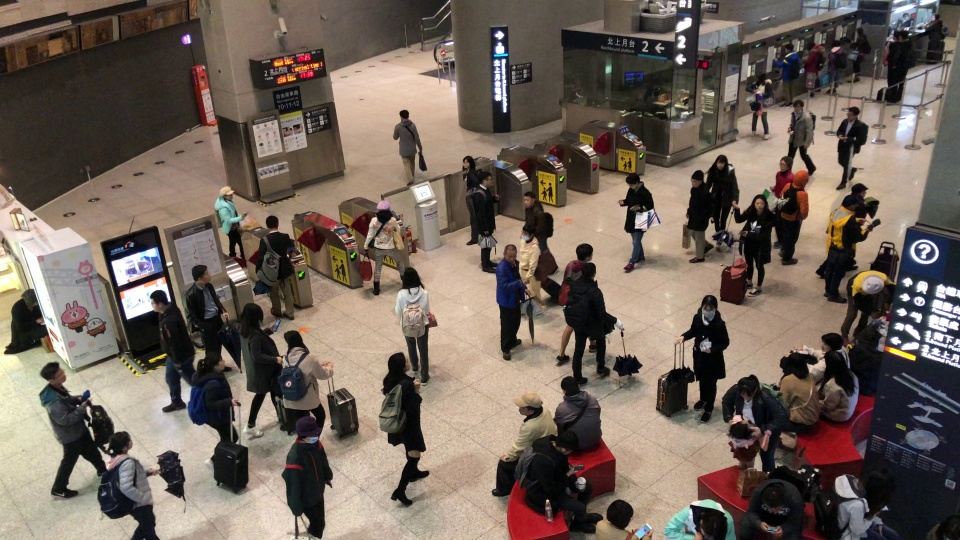person_head: (866, 467, 895, 504), (606, 498, 634, 529), (699, 511, 726, 538), (513, 391, 542, 416), (761, 483, 786, 512), (295, 415, 320, 442), (40, 361, 66, 386), (107, 430, 133, 455), (555, 430, 580, 455), (196, 351, 225, 372), (386, 351, 410, 375), (240, 302, 263, 327), (824, 352, 847, 377), (787, 353, 809, 378), (860, 273, 884, 295), (148, 288, 168, 313), (738, 376, 758, 401), (939, 517, 959, 540), (820, 332, 844, 351), (191, 263, 212, 284), (283, 329, 304, 349), (559, 375, 580, 395), (402, 267, 421, 289), (730, 420, 753, 438), (701, 294, 718, 316), (575, 242, 594, 261), (842, 193, 859, 212), (580, 261, 597, 279), (689, 168, 704, 188), (502, 243, 518, 261), (793, 169, 809, 187), (22, 288, 37, 306), (520, 224, 535, 242), (851, 182, 869, 197), (264, 214, 280, 230), (478, 170, 494, 186), (625, 172, 641, 188), (778, 155, 794, 170), (714, 154, 728, 171), (219, 185, 234, 200), (753, 194, 767, 210), (846, 105, 861, 119), (523, 191, 536, 207), (376, 199, 391, 212), (463, 155, 475, 171), (755, 71, 767, 85), (792, 99, 804, 111), (399, 108, 409, 121), (898, 30, 909, 41), (806, 39, 816, 51), (784, 42, 794, 52), (856, 27, 866, 37), (832, 39, 840, 47), (932, 13, 939, 22)
person_vbox: (513, 430, 603, 534), (39, 360, 105, 499), (377, 351, 430, 508), (564, 261, 624, 387), (491, 391, 558, 498), (95, 431, 160, 540), (676, 294, 730, 423), (721, 374, 789, 474), (280, 415, 334, 540), (185, 351, 240, 473), (736, 463, 822, 540), (811, 466, 900, 540), (277, 329, 334, 438), (238, 302, 282, 437), (148, 288, 194, 413), (822, 194, 874, 304), (182, 264, 233, 372), (554, 243, 598, 365), (815, 182, 869, 280), (773, 352, 821, 457), (770, 332, 852, 392), (731, 194, 776, 297), (839, 268, 897, 347), (494, 244, 533, 361), (254, 214, 296, 321), (394, 266, 431, 386), (363, 199, 405, 296), (615, 172, 655, 272), (551, 375, 603, 451), (465, 170, 501, 275), (522, 191, 559, 277), (816, 352, 859, 424), (777, 169, 809, 264), (664, 498, 736, 540), (835, 105, 869, 193), (684, 168, 715, 264), (705, 153, 739, 240), (3, 288, 45, 354), (517, 224, 547, 311), (726, 415, 771, 473), (595, 497, 654, 540), (213, 185, 246, 260), (769, 154, 795, 249), (786, 99, 817, 176), (392, 109, 423, 185), (773, 42, 805, 109), (744, 72, 775, 141), (462, 154, 480, 244), (802, 39, 827, 100), (847, 27, 872, 84), (894, 30, 914, 101), (825, 38, 848, 96), (924, 516, 959, 540), (923, 13, 948, 41)
